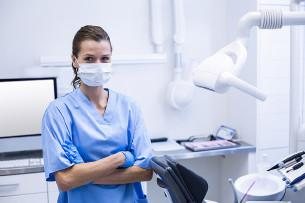OK: (81, 48, 112, 87)
